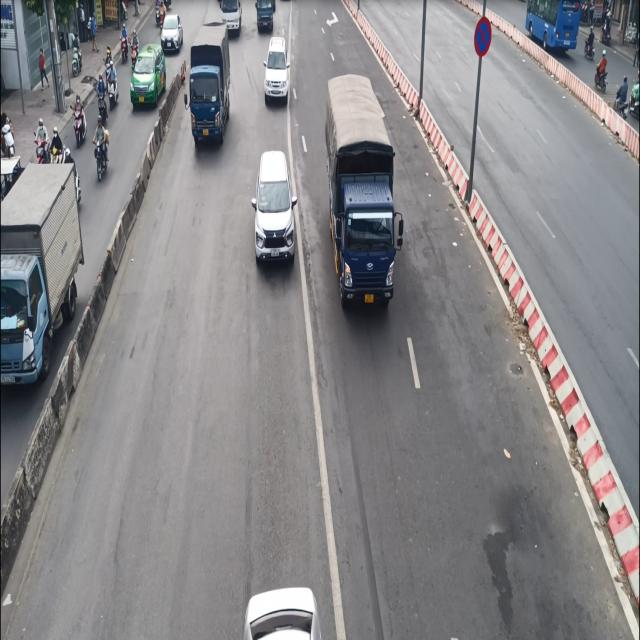car: (248, 146, 302, 279), (128, 40, 166, 106), (264, 33, 290, 110), (162, 10, 182, 54)
motor: (93, 117, 112, 184), (72, 94, 86, 148)
truck: (1, 159, 90, 397), (322, 70, 404, 313), (187, 17, 231, 151)
